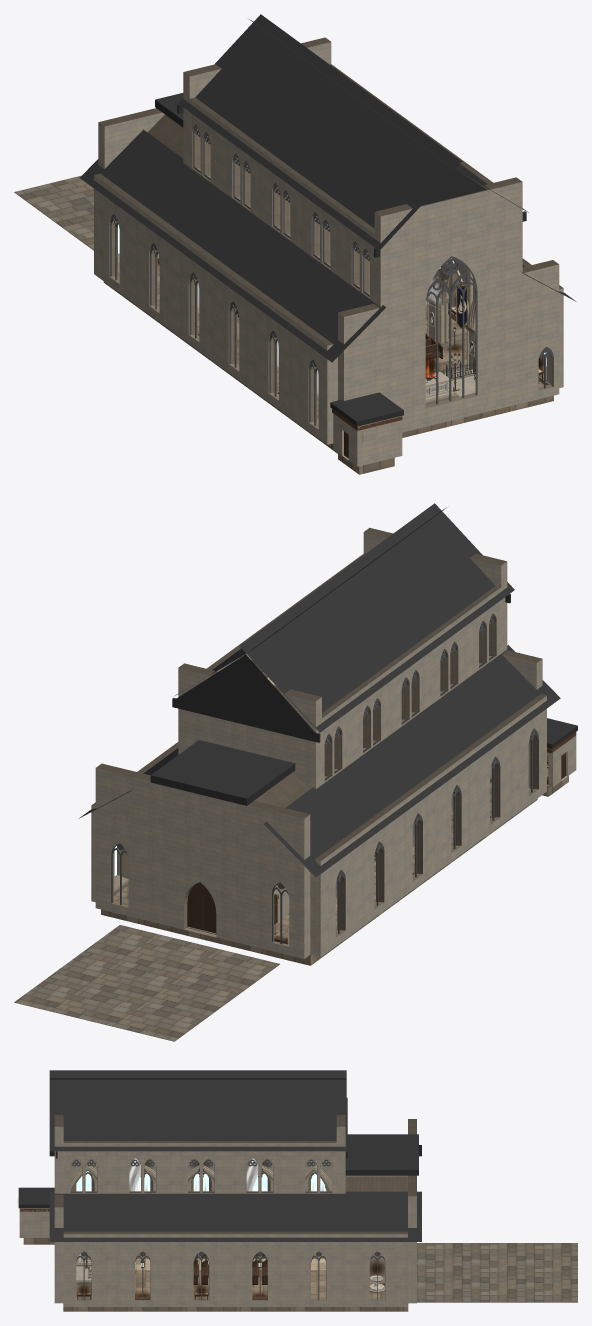
File: cathedral.glb
The picture shows the model from 3 angles, top to bottom: view 1: azimuth 30°, elevation 25°; view 2: azimuth 150°, elevation 25°; view 3: azimuth 270°, elevation 25°; orthographic projection. The views are drawn at different scales.
Parts seen in each view (by area): view 1: S_Envelope, W_NorthNave, W_NorthAisleW, W_AisleE6, W_AisleE1, W_AisleE2, W_AisleE5, W_AisleE4, W_AisleE3, W_NorthAisleE, N_Forecourt (capture surroundings), F_Floor (+15 smaller); view 2: S_Envelope, N_Forecourt (capture surroundings), W_TowerSouth, W_SouthE, W_SouthW, W_NaveSouth, W_AisleE1, W_AisleE5, W_AisleE3, W_AisleE2, W_AisleE4, W_AisleE6 (+12 smaller); view 3: S_Envelope, N_Forecourt (capture surroundings), W_AisleW1, W_AisleW2, W_AisleW4, W_AisleW3, W_AisleW5, F_Floor, W_AisleW6, C_ArcadeW2, C_ArcadeW4, C_ArcadeW3 (+14 smaller).
Boxes of the visible parts, x1,y1,x2,y2 form: S_Envelope: (80, 14, 576, 426); W_NorthNave: (374, 177, 522, 432); W_NorthAisleW: (522, 260, 559, 402); W_AisleE6: (293, 320, 337, 444); W_AisleE1: (94, 173, 140, 303); W_AisleE2: (134, 203, 180, 332); W_AisleE5: (253, 290, 299, 419); W_AisleE4: (214, 261, 259, 390); W_AisleE3: (174, 232, 219, 361); W_NorthAisleE: (338, 303, 380, 400); N_Forecourt (capture surroundings): (14, 175, 93, 250); F_Floor: (103, 258, 553, 453); S_Envelope: (79, 503, 577, 877); N_Forecourt (capture surroundings): (14, 925, 279, 1041); W_TowerSouth: (154, 783, 245, 944); W_SouthE: (246, 800, 310, 958); W_SouthW: (95, 763, 154, 922); W_NaveSouth: (178, 663, 321, 789); W_AisleE1: (310, 831, 359, 957); W_AisleE5: (470, 718, 514, 843); W_AisleE3: (392, 774, 437, 899); W_AisleE2: (354, 803, 398, 927); W_AisleE4: (431, 746, 475, 871); W_AisleE6: (508, 694, 546, 815); S_Envelope: (18, 1070, 421, 1241); N_Forecourt (capture surroundings): (417, 1243, 577, 1302); W_AisleW1: (348, 1231, 407, 1306); W_AisleW2: (289, 1231, 348, 1306); W_AisleW4: (172, 1231, 230, 1306); W_AisleW3: (231, 1231, 289, 1306); W_AisleW5: (113, 1231, 171, 1306); F_Floor: (63, 1254, 408, 1311); W_AisleW6: (63, 1231, 113, 1306); C_ArcadeW2: (231, 1141, 289, 1193); C_ArcadeW4: (113, 1141, 171, 1193); C_ArcadeW3: (172, 1141, 230, 1193).
Size of what is drawn, in the model's own units: 20.8 by 21.92 by 56.05.
41 materials, 21 textured.
